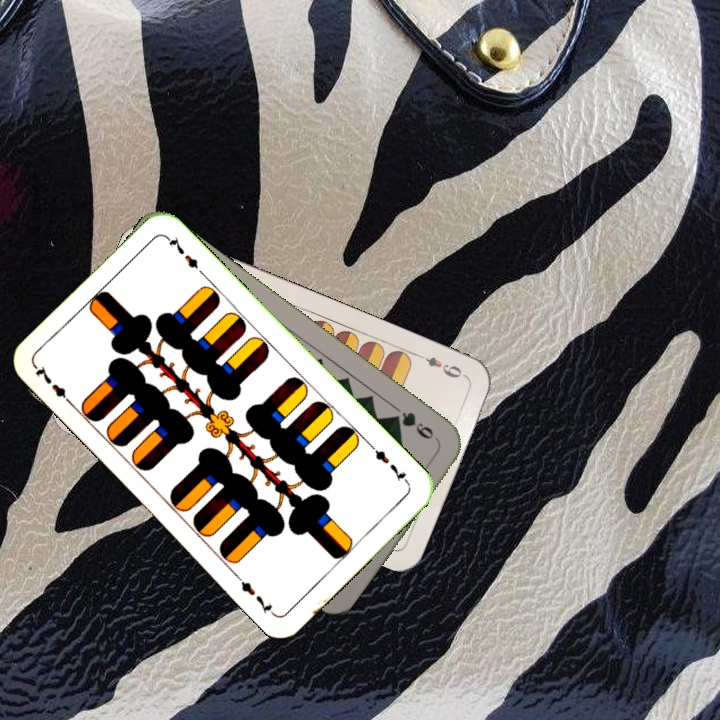E7: (31, 361, 77, 409), (366, 440, 412, 487)
E9: (421, 352, 469, 381)
G9: (387, 407, 436, 442)
